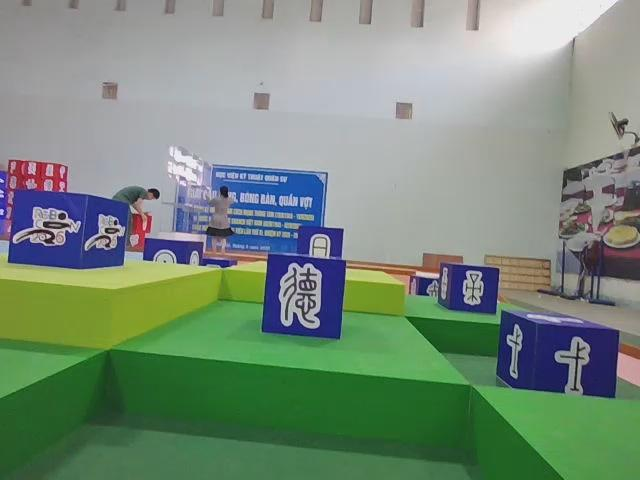R1 Blue: (8, 188, 129, 270)
R2 Fake Blue: (262, 252, 346, 340), (298, 227, 346, 263), (408, 273, 440, 296)
R2 Real Blue: (497, 313, 619, 402), (440, 262, 502, 315), (142, 239, 203, 268)
